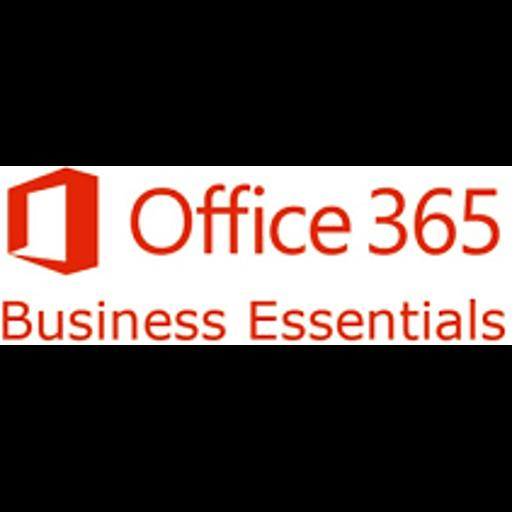Office365: (0, 166, 512, 345)
